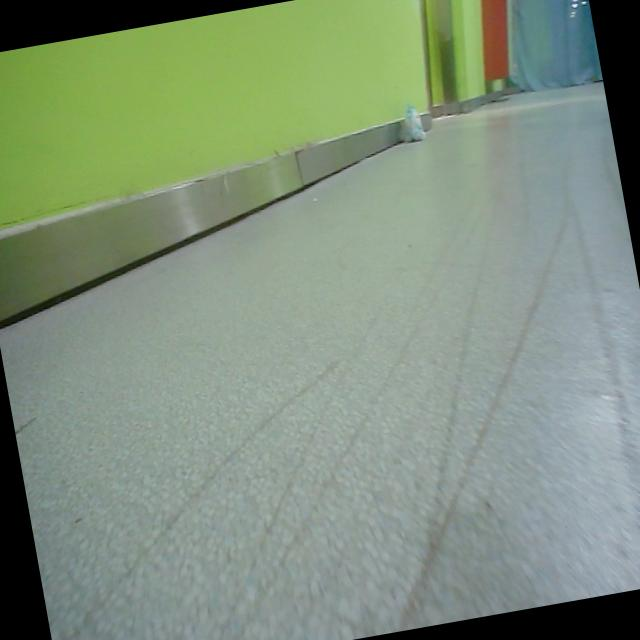xiaoba: (402, 100, 432, 146)
